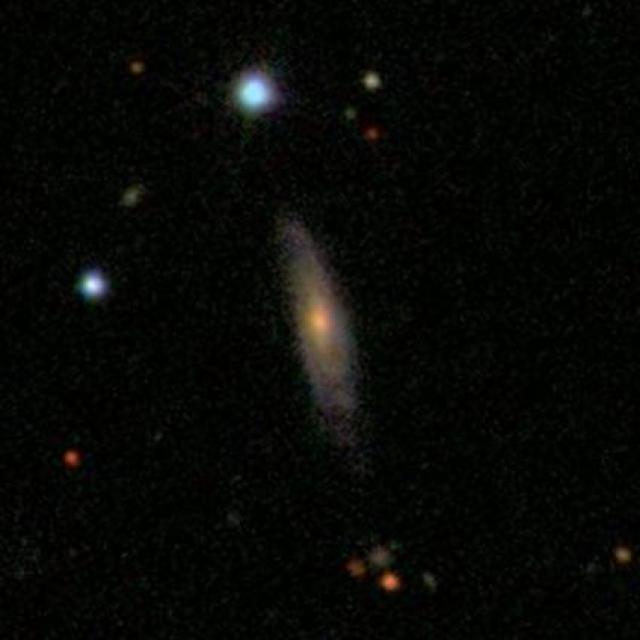galaxy: (269, 207, 370, 468), (220, 60, 289, 132), (73, 267, 114, 309), (120, 185, 151, 216), (378, 567, 406, 598), (342, 555, 370, 585), (369, 541, 395, 572), (123, 52, 149, 80), (61, 448, 83, 472), (363, 72, 386, 94), (613, 544, 633, 567), (423, 570, 440, 592), (364, 127, 385, 144), (342, 107, 359, 123)
